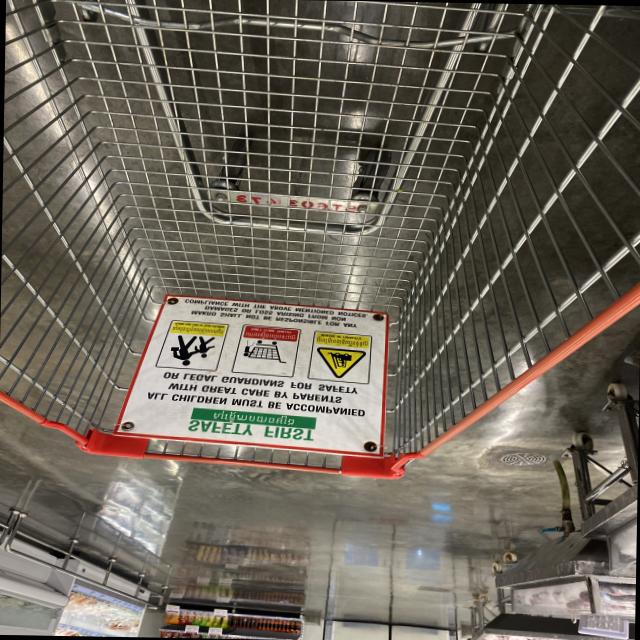Yolov11kh: (208, 410, 298, 428), (171, 324, 226, 335), (243, 330, 297, 341), (316, 336, 369, 347)
